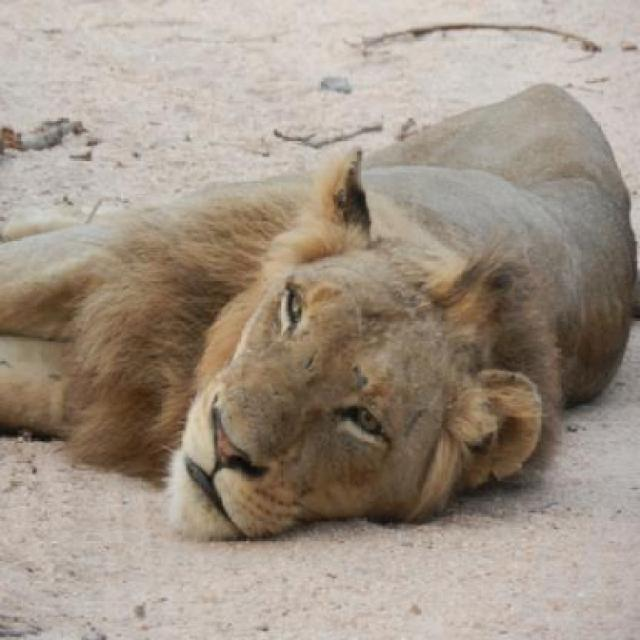Lion: (1, 68, 637, 569)
